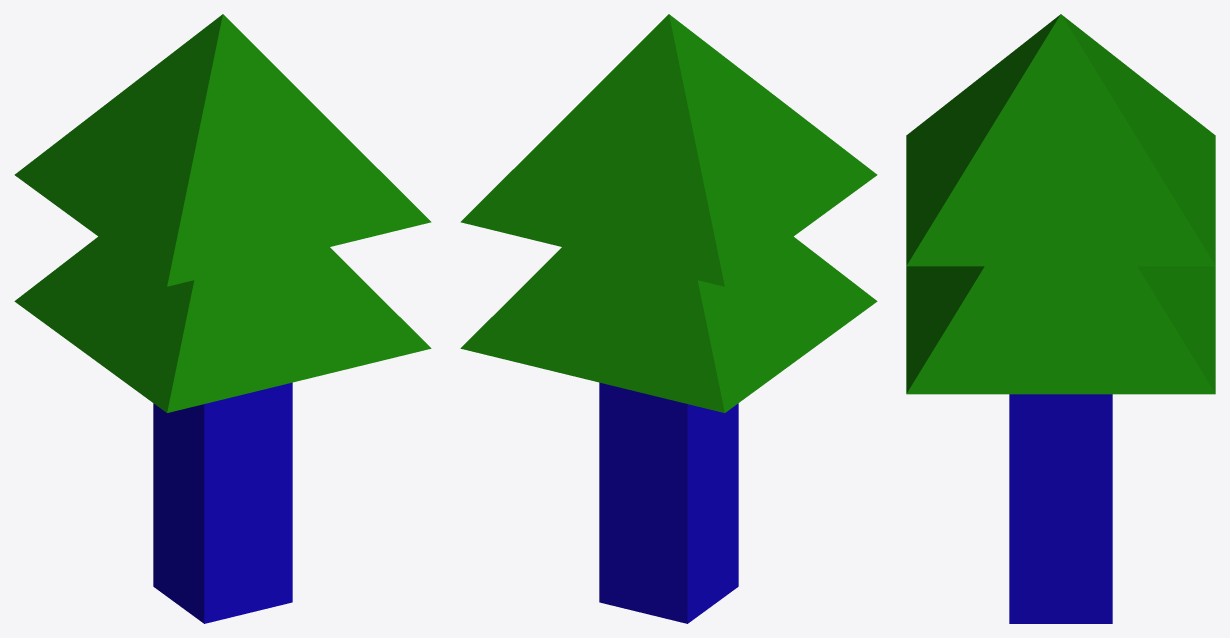
The model's file is Lamp_MES.FBX.
The picture shows the model from 3 angles, left to right: view 1: azimuth 30°, elevation 25°; view 2: azimuth 150°, elevation 25°; view 3: azimuth 270°, elevation 25°; orthographic projection.
Visible parts, largest first — view 1: Lamp; view 2: Lamp; view 3: Lamp.
Boxes of the visible parts, bbox=[...] form: Lamp: bbox=[14, 14, 431, 623]; Lamp: bbox=[460, 14, 877, 623]; Lamp: bbox=[906, 14, 1215, 623].
Size of the model in its own units: 30 by 62.9 by 30.
